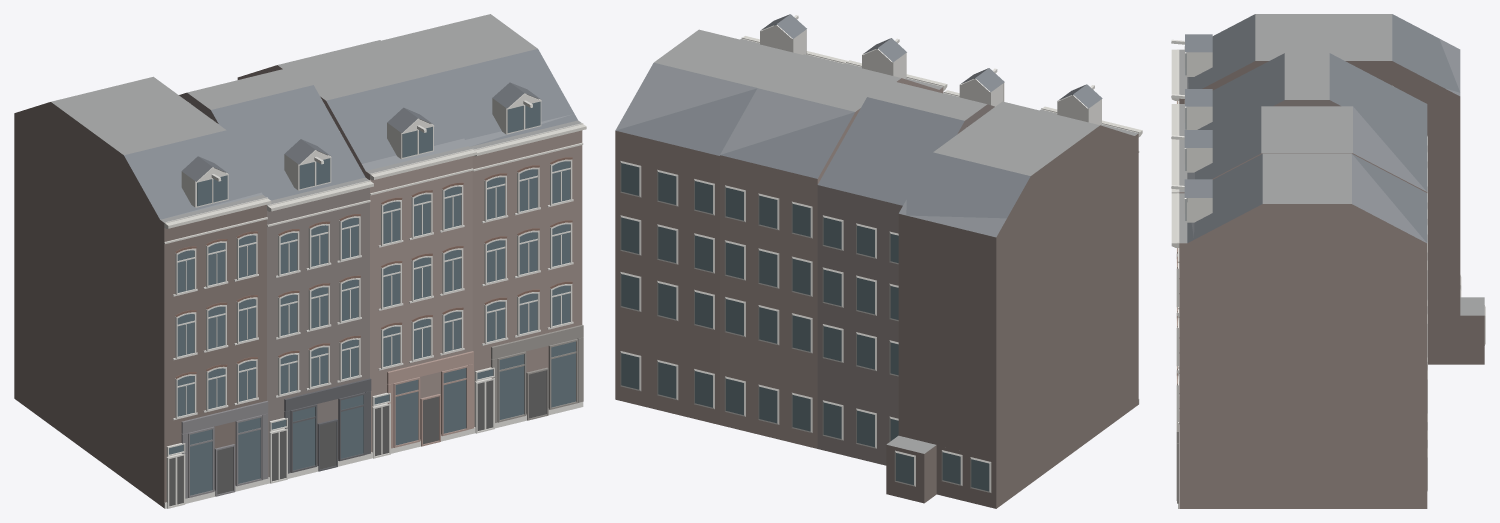
The model's file is chunk-face-wou-54-72-r1.glb.
3 views of the same model, side by side, from view 1: azimuth 30°, elevation 25°; view 2: azimuth 150°, elevation 25°; view 3: azimuth 270°, elevation 25° (orthographic). The views are drawn at different scales.
Visible parts, largest first — view 1: face-wou-54-72-r1; view 2: face-wou-54-72-r1; view 3: face-wou-54-72-r1.
Boxes of the visible parts, x1,y1,x2,y2 form: face-wou-54-72-r1: (14,14,586,508); face-wou-54-72-r1: (615,14,1142,508); face-wou-54-72-r1: (1171,14,1485,508).
Bounding box in the file's own units: 23.2 × 17.6 × 16.08.
